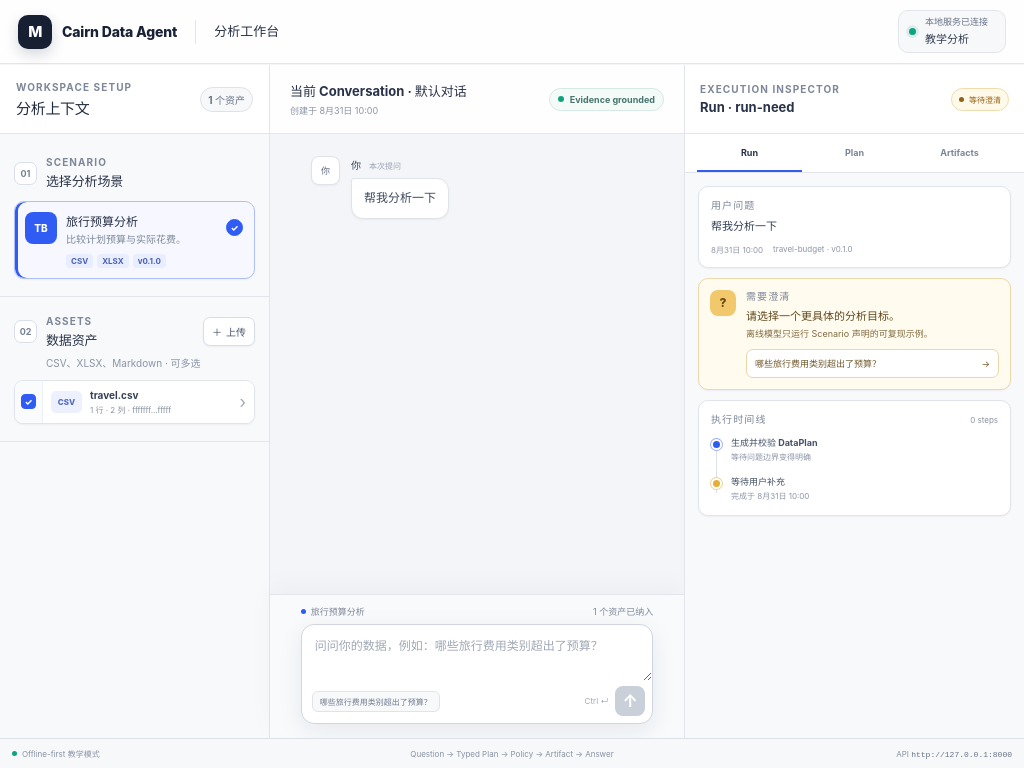
Scenario: App workbench › restores a saved project and turns a clarification option into the next question
expect the heading "请选择一个更具体的分析目标。" is shown: met, box [746,308,900,322]
Click the button "哪些旅行费用类别超出了预算？ →" at (872, 364), box [746,349,999,378]
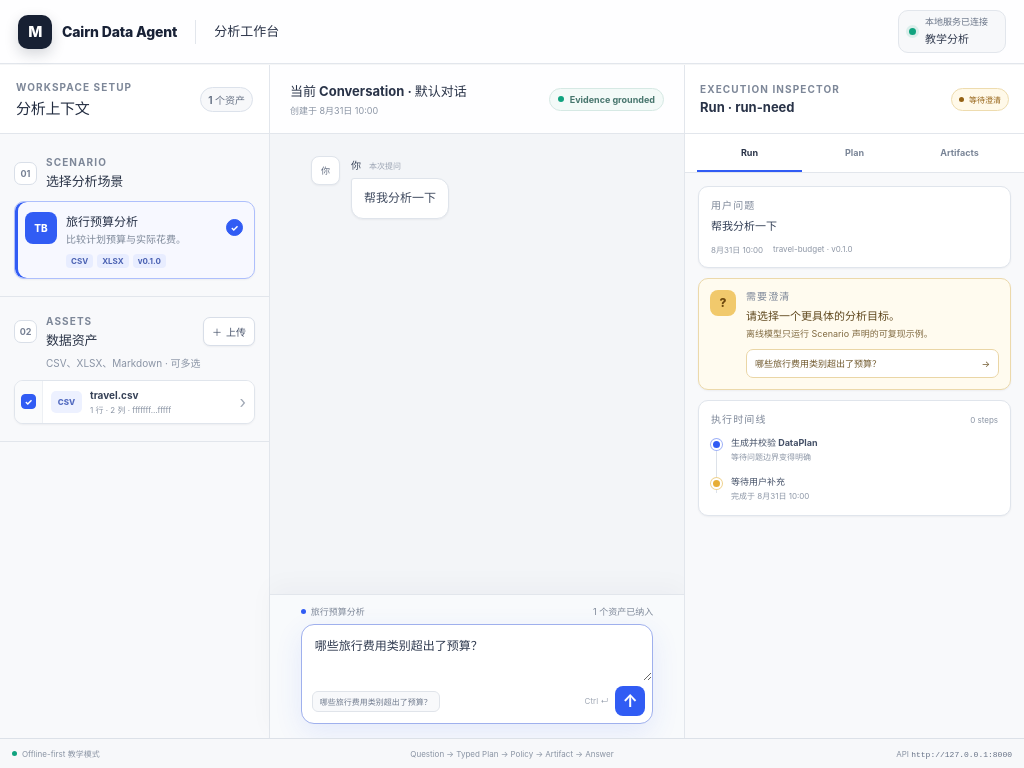
expect the text box named "分析问题" holds "哪些旅行费用类别超出了预算？": met, box [302,625,652,681]
